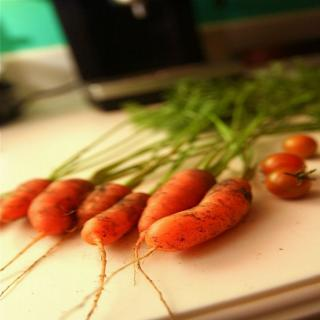Carrot: (0, 59, 318, 320), (136, 168, 216, 320)
